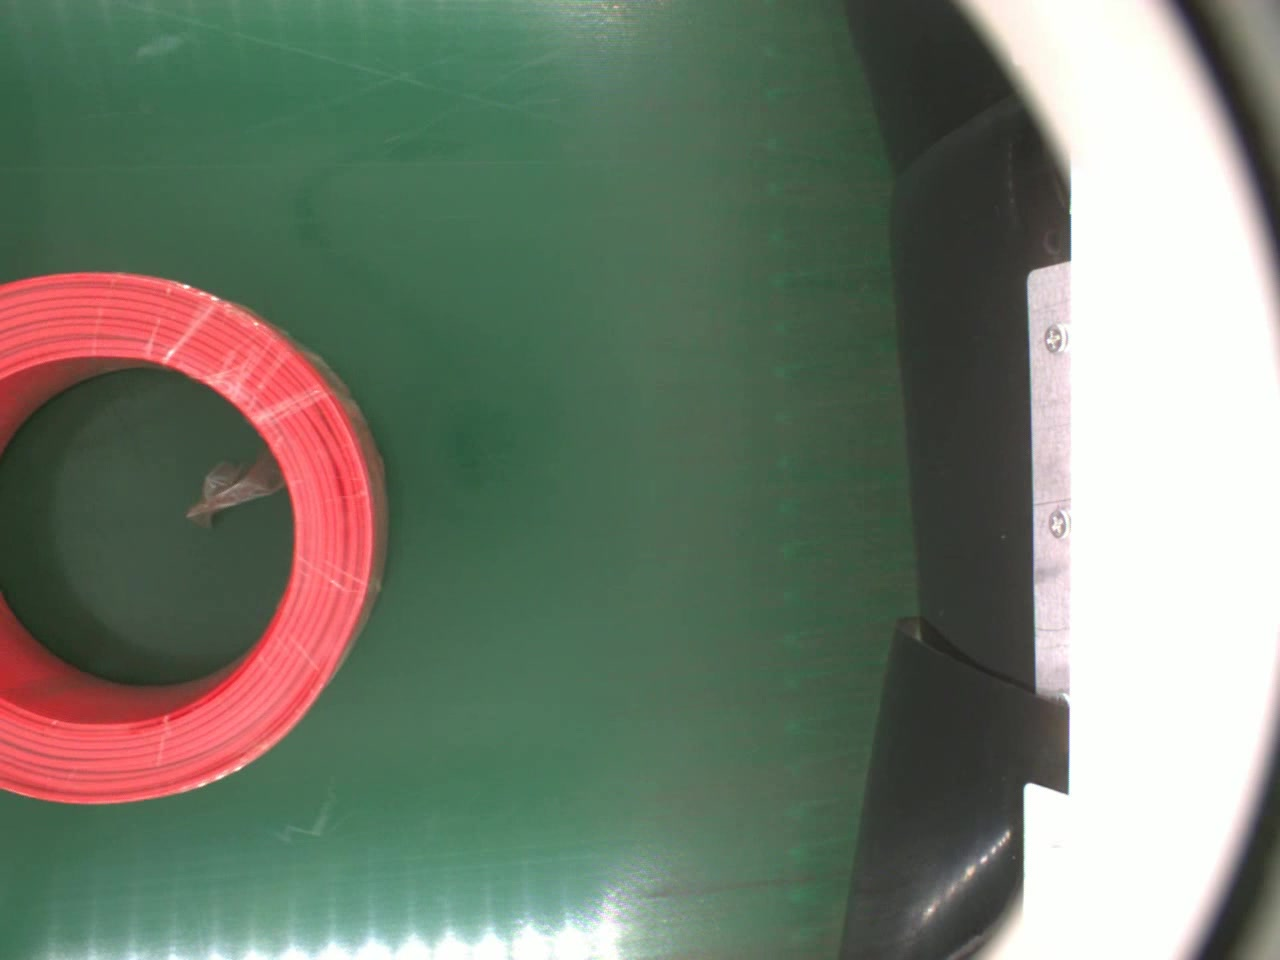red: (0, 270, 395, 810)
